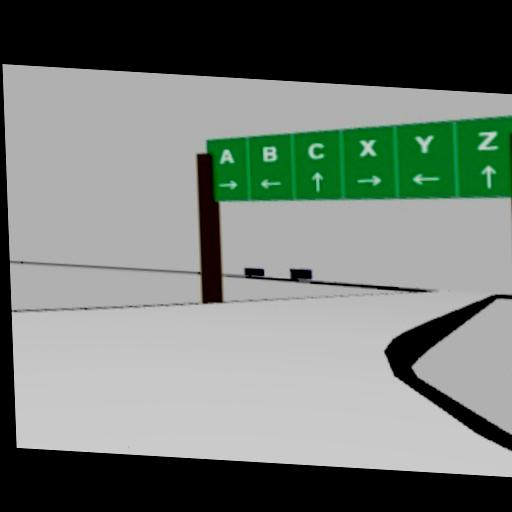A: (218, 147, 236, 165)
B: (263, 145, 279, 164)
C: (307, 141, 325, 160)
Left: (409, 171, 440, 186), (259, 177, 282, 190)
Right: (356, 173, 382, 186), (216, 178, 239, 192)
Straight: (479, 163, 498, 190), (309, 170, 325, 192)
X: (357, 138, 378, 157)
Y: (413, 133, 436, 155)
Z: (475, 129, 501, 152)
